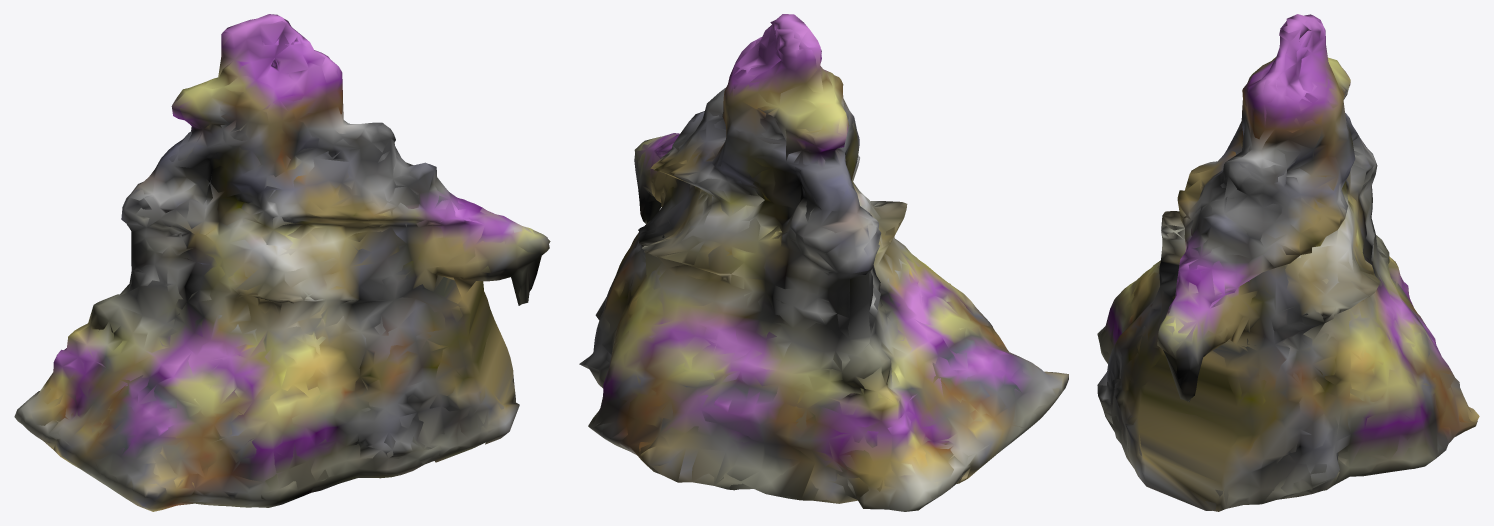
File: yuri_cloning_vats.glb
The picture shows the model from 3 angles, left to right: view 1: azimuth 30°, elevation 25°; view 2: azimuth 150°, elevation 25°; view 3: azimuth 270°, elevation 25°; orthographic projection. The views are drawn at different scales.
Visible parts, largest first — view 1: yuri_cloning_vats; view 2: yuri_cloning_vats; view 3: yuri_cloning_vats.
Boxes of the visible parts, x1=… form: yuri_cloning_vats: x1=14, y1=14, x2=550, y2=511; yuri_cloning_vats: x1=579, y1=14, x2=1068, y2=511; yuri_cloning_vats: x1=1097, y1=14, x2=1479, y2=511.
Size of the model in its own units: 1.7 by 1.55 by 1.36.
